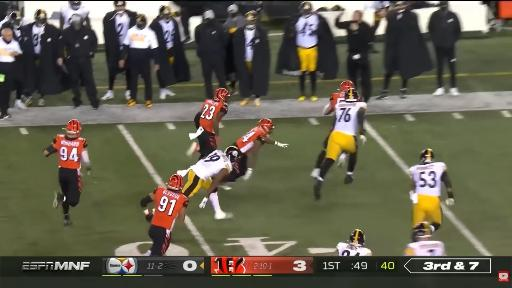Helmet: (412, 222, 431, 241), (349, 230, 365, 246), (245, 10, 258, 29), (168, 174, 183, 190), (258, 119, 274, 134), (225, 147, 241, 162), (66, 120, 81, 135), (344, 88, 360, 102), (9, 11, 22, 28), (214, 88, 229, 102), (420, 149, 434, 163), (35, 9, 47, 24), (159, 5, 171, 18), (340, 81, 354, 92), (300, 2, 312, 13), (7, 4, 19, 14), (69, 2, 81, 9), (114, 1, 126, 7)
Jersey: (152, 187, 188, 230), (191, 150, 232, 180), (410, 162, 446, 196), (53, 135, 87, 170), (334, 102, 366, 135), (200, 100, 227, 133), (296, 14, 319, 48), (236, 127, 266, 153), (60, 6, 89, 28), (405, 241, 445, 256), (115, 13, 130, 45), (159, 20, 175, 48), (337, 243, 371, 256), (323, 93, 344, 114), (32, 24, 45, 55), (330, 93, 344, 109)
Player: (314, 89, 366, 199), (43, 120, 90, 225), (178, 147, 240, 219), (225, 119, 288, 182), (140, 175, 188, 255), (410, 149, 454, 230), (187, 88, 229, 158), (405, 222, 445, 256), (311, 130, 331, 177), (337, 230, 371, 256), (60, 2, 90, 30), (0, 4, 19, 26)
